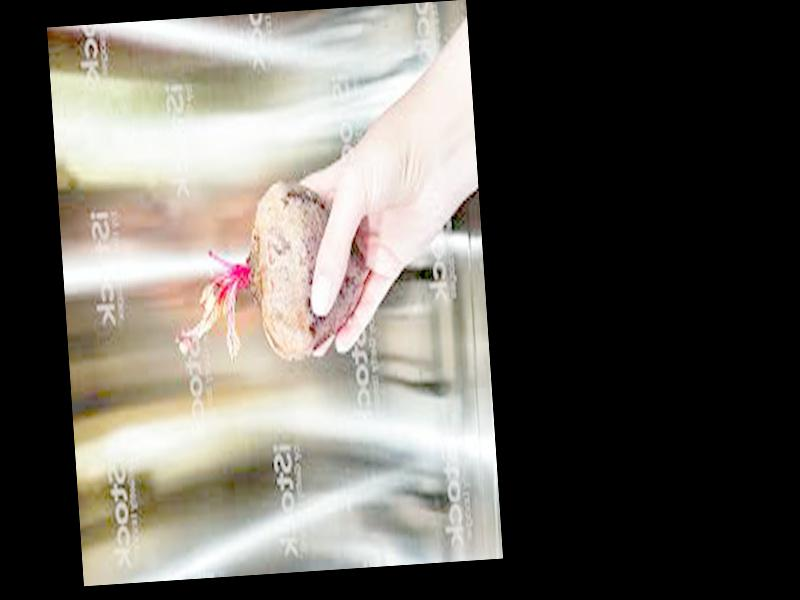Beet: (171, 178, 372, 368)
